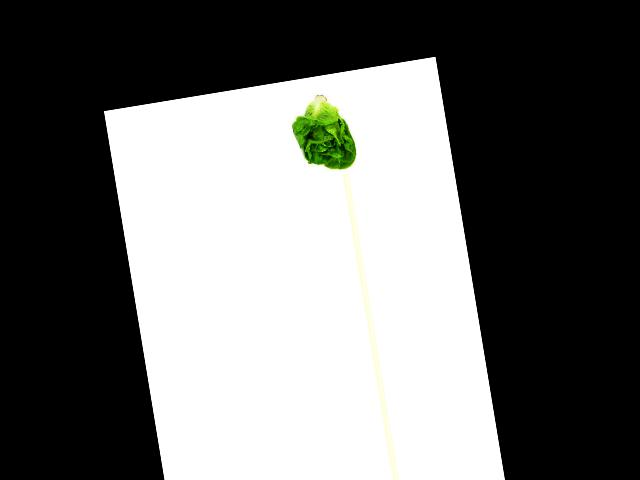lettuce: (283, 87, 360, 176)
